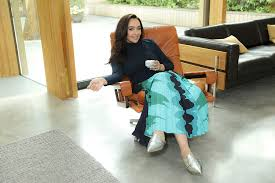middle_eastern_Female: (121, 12, 144, 42)
